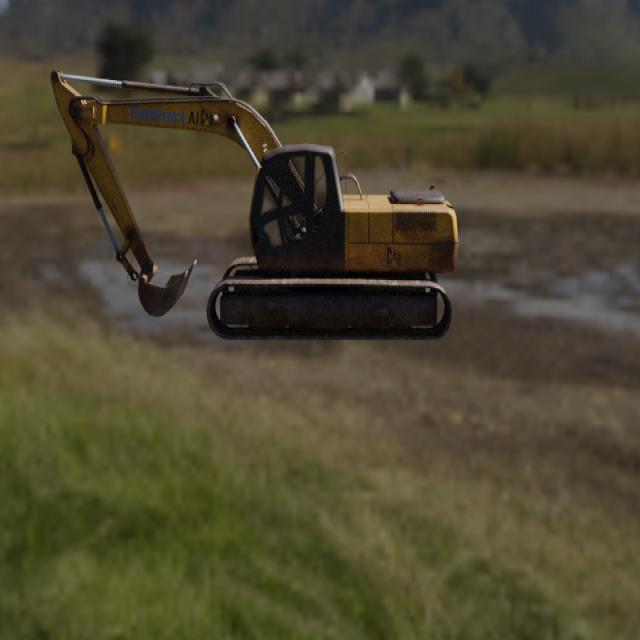excavator: (50, 69, 458, 340)
